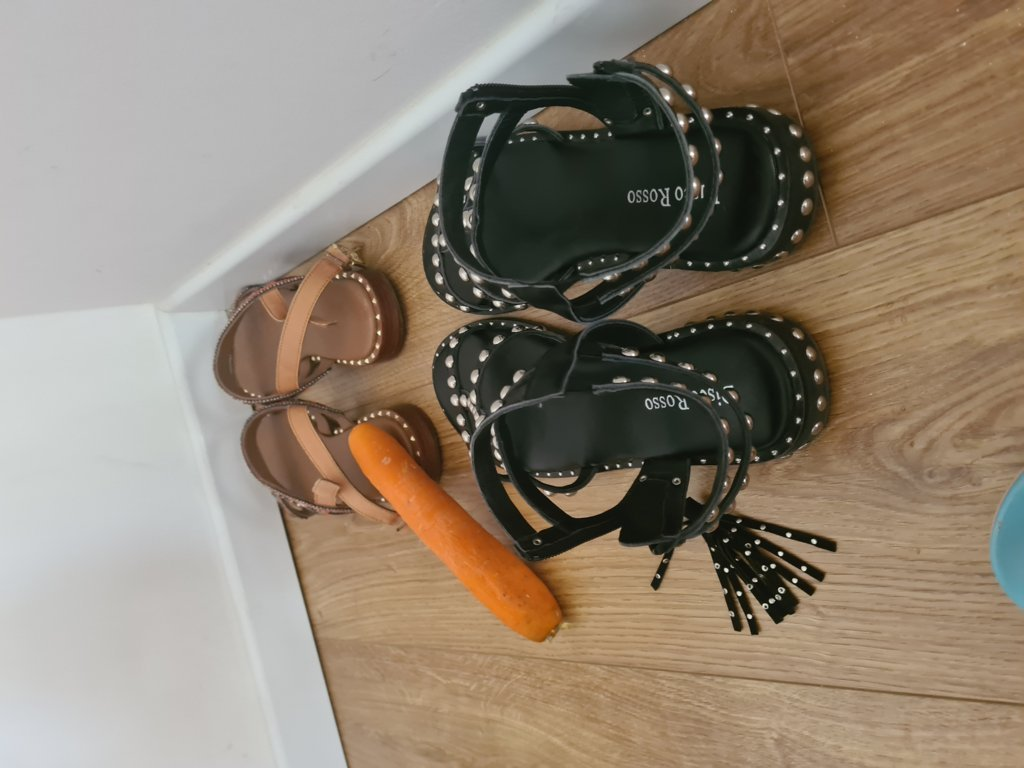carrot: (354, 415, 563, 637)
